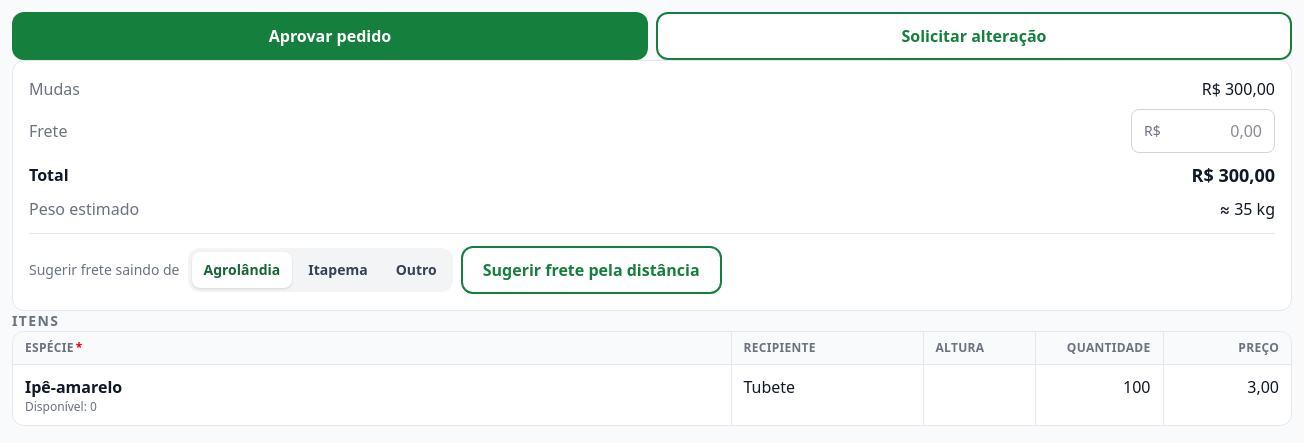
Test: ItensDaFicha: o fechamento do pedido (RF-66) › o total acompanha o frete digitado, e o frete grava quando a digitação para
Type "80,00" into the field named "Frete".
click(1215, 131); type("80,00")  # box 1169,119 -> 1262,143
Wait 600 ms
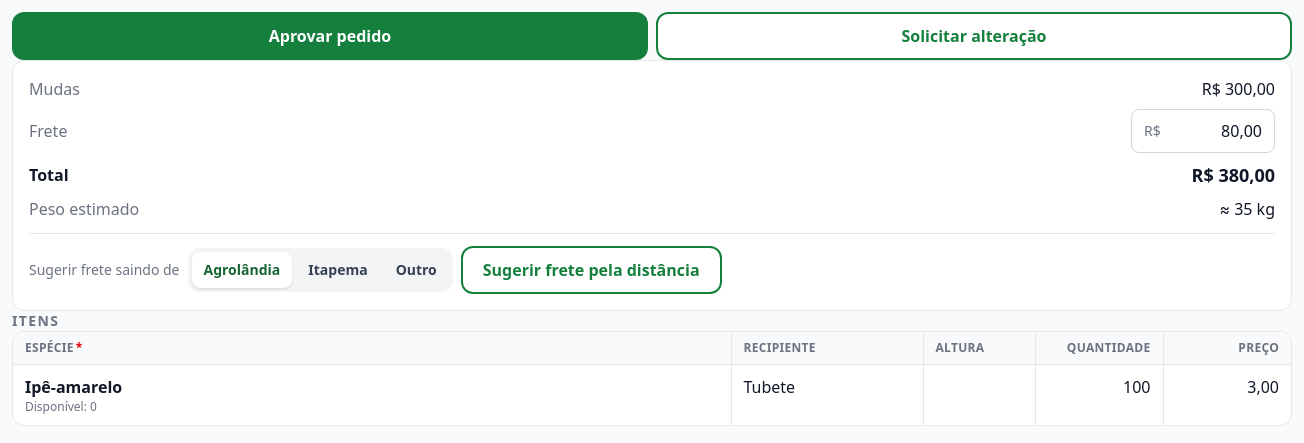
Expected: the element named "Fechamento do pedido" shows "380,00", 1192,163 -> 1275,187
